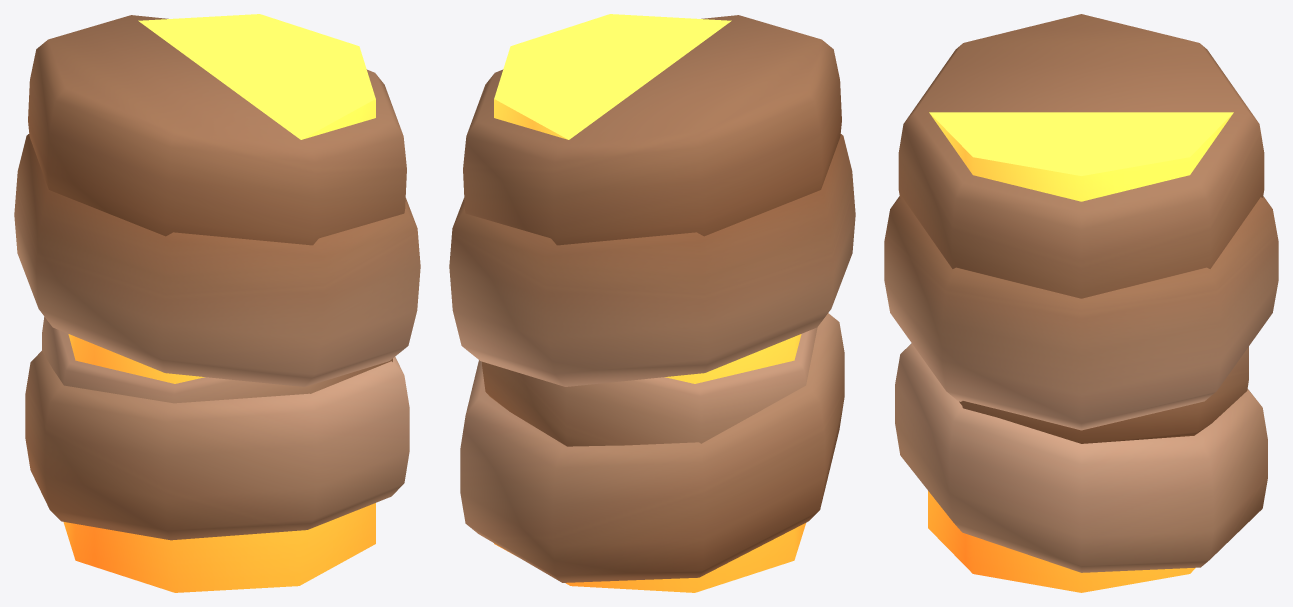
File: gold_and_steel_grip_047.glb
The picture shows the model from 3 angles, left to right: view 1: azimuth 30°, elevation 25°; view 2: azimuth 150°, elevation 25°; view 3: azimuth 270°, elevation 25°; orthographic projection. The views are drawn at different scales.
Visible parts, largest first — view 1: gold_and_steel_grip_047; view 2: gold_and_steel_grip_047; view 3: gold_and_steel_grip_047.
Boxes of the visible parts, x1=… form: gold_and_steel_grip_047: x1=14, y1=14, x2=420, y2=592; gold_and_steel_grip_047: x1=449, y1=14, x2=855, y2=592; gold_and_steel_grip_047: x1=884, y1=14, x2=1278, y2=592.
Bounding box in the file's own units: 2.55 × 3.2 × 2.57.
Materials: 1 (1 with a texture image).
